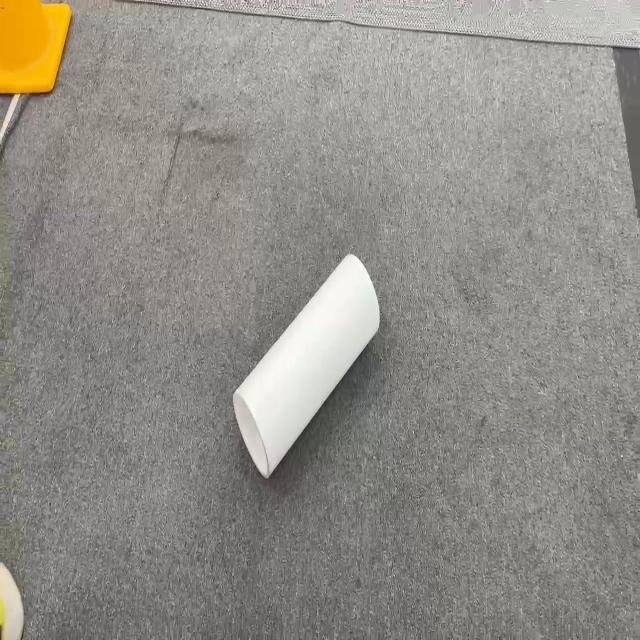coral: (232, 252, 380, 479)
